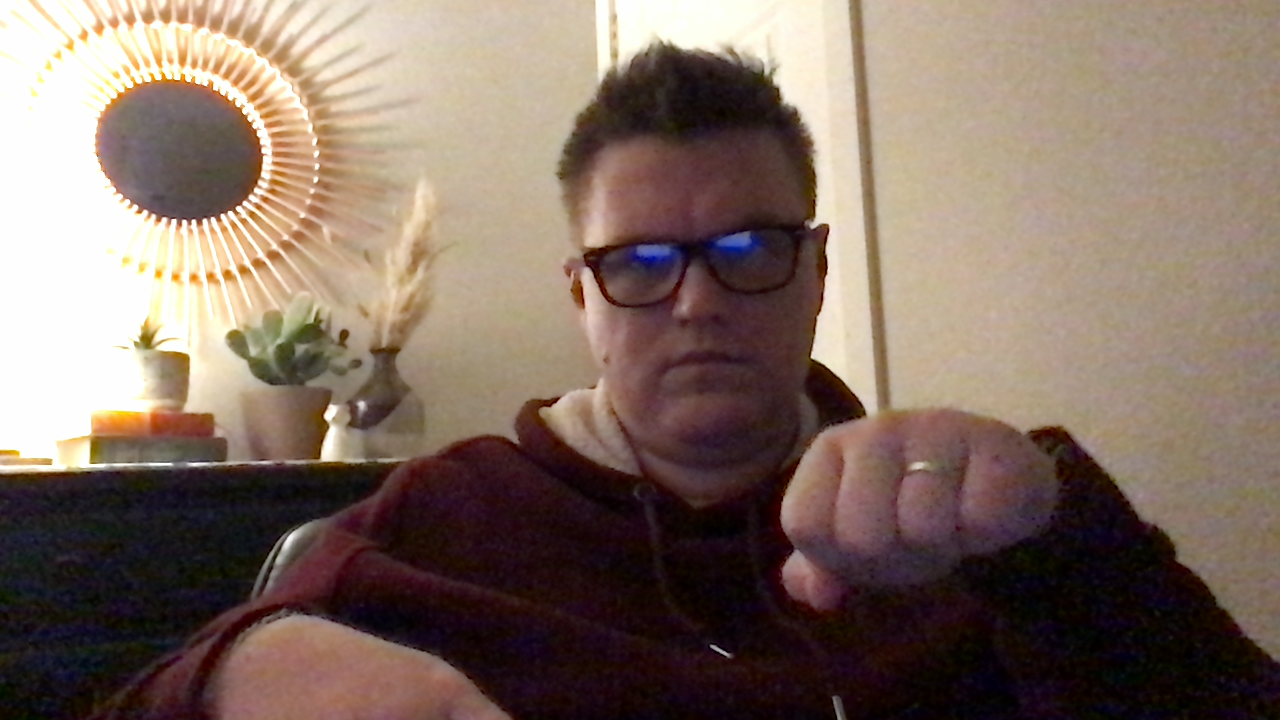yes: (778, 405, 1067, 614)
